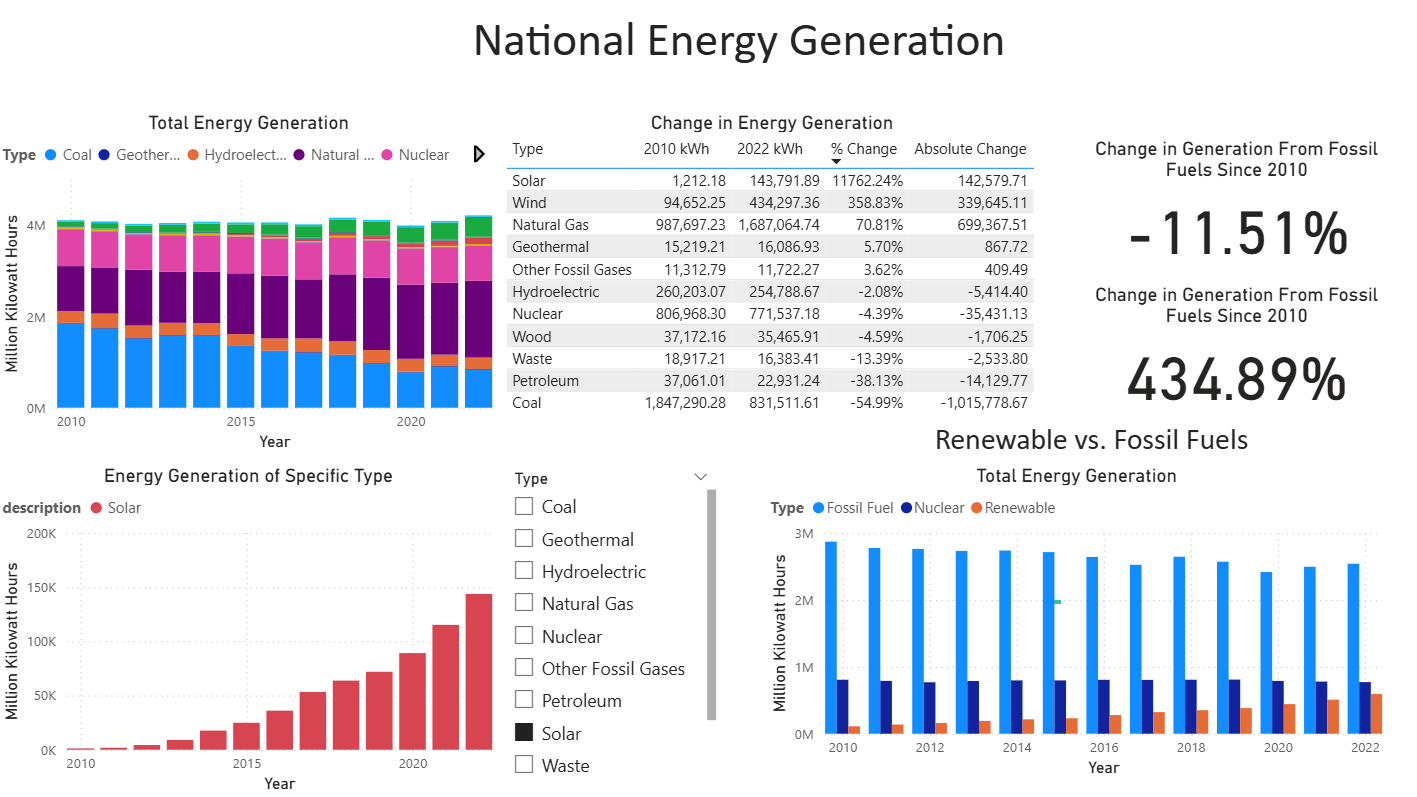

This screenshot's page, from the dashboard's own definition file:
{"tool":"powerbi","page":{"name":"Energy Generation","canvas":[1280,720],"ordinal":4},"visuals":[{"type":"columnChart","title":"Total Energy Generation","fields":{"Category":["energy_generation_all_sectors.YEAR"],"Y":["Sum(energy_generation_all_sectors.VALUE)"],"Series":["energy_generation_all_sectors.description"]},"box":[0,103.2,451.6,309.7],"z":0},{"type":"columnChart","title":"Energy Generation of Specific Type","fields":{"Category":["energy_generation_all_sectors.YEAR"],"Y":["Sum(energy_generation_all_sectors.VALUE)"],"Series":["energy_generation_all_sectors.description"]},"box":[0,420.1,451.6,299.9],"z":1000},{"type":"slicer","title":"Type","fields":{"Values":["energy_generation_all_sectors.description"]},"box":[451.6,420.1,199.3,285.5],"z":2000},{"type":"tableEx","title":"Change in Energy Generation","fields":{"Values":["energy_generation_all_sectors.description","energy_generation_all_sectors.generation_2010","energy_generation_all_sectors.generation_2022","energy_generation_all_sectors.generation_change","energy_generation_all_sectors.abs_gen_change"]},"box":[451.6,103.2,488.4,286.4],"z":3000},{"type":"textbox","box":[416.3,6.8,499,65.2],"z":5000},{"type":"textbox","box":[826.8,377.1,311.5,43.1],"z":6000},{"type":"clusteredColumnChart","title":"Total Energy Generation","fields":{"Category":["energy_generation_all_sectors.YEAR"],"Y":["Sum(energy_generation_all_sectors.VALUE)"],"Series":["energy_generation_all_sectors.category"]},"box":[689.5,420.1,559.3,285.5],"z":7000},{"type":"card","title":"Change in Generation From Fossil Fuels Since 2010","fields":{"Values":["energy_generation_all_sectors.generation_change"]},"box":[976.5,257.8,272.3,119.6],"z":8000},{"type":"card","title":"Change in Generation From Fossil Fuels Since 2010","fields":{"Values":["energy_generation_all_sectors.generation_change"]},"box":[976.5,126.4,272.3,119.6],"z":9000}]}

Visuals, with their boxes in screenshot pixels (x1, y1, x2, y2), scaled from the page's 1280x720 canvas onto the 1417x797 screenshot:
"Total Energy Generation" columnChart: detection(0, 114, 500, 457)
"Energy Generation of Specific Type" columnChart: detection(0, 465, 500, 796)
"Type" slicer: detection(500, 465, 721, 781)
"Change in Energy Generation" tableEx: detection(500, 114, 1041, 431)
textbox: detection(461, 8, 1013, 80)
textbox: detection(915, 417, 1260, 465)
"Total Energy Generation" clusteredColumnChart: detection(763, 465, 1382, 781)
"Change in Generation From Fossil Fuels Since 2010" card: detection(1081, 285, 1382, 418)
"Change in Generation From Fossil Fuels Since 2010" card: detection(1081, 140, 1382, 272)
